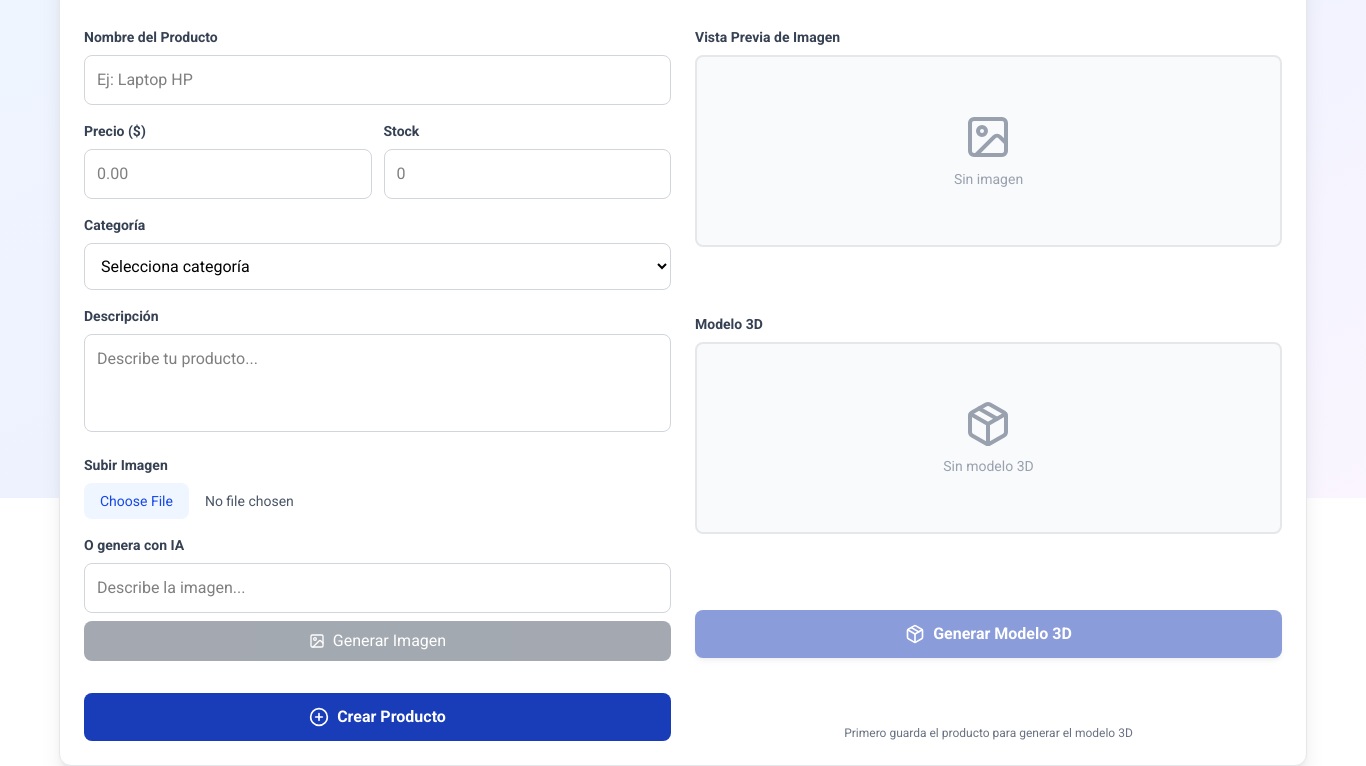
Test case: Crear Producto - Vendedor › Botón Generar Imagen está deshabilitado sin prompt y habilita con texto
This screenshot has width=1366, height=766.
(page scrolled)
Expected: the button "Generar Imagen" is disabled, [84,621,671,661]
# enable by typing prompt
Step 1. Type "un prompt" into the field with placeholder "Describe la imagen..." → (378, 588), box [84,563,671,613]
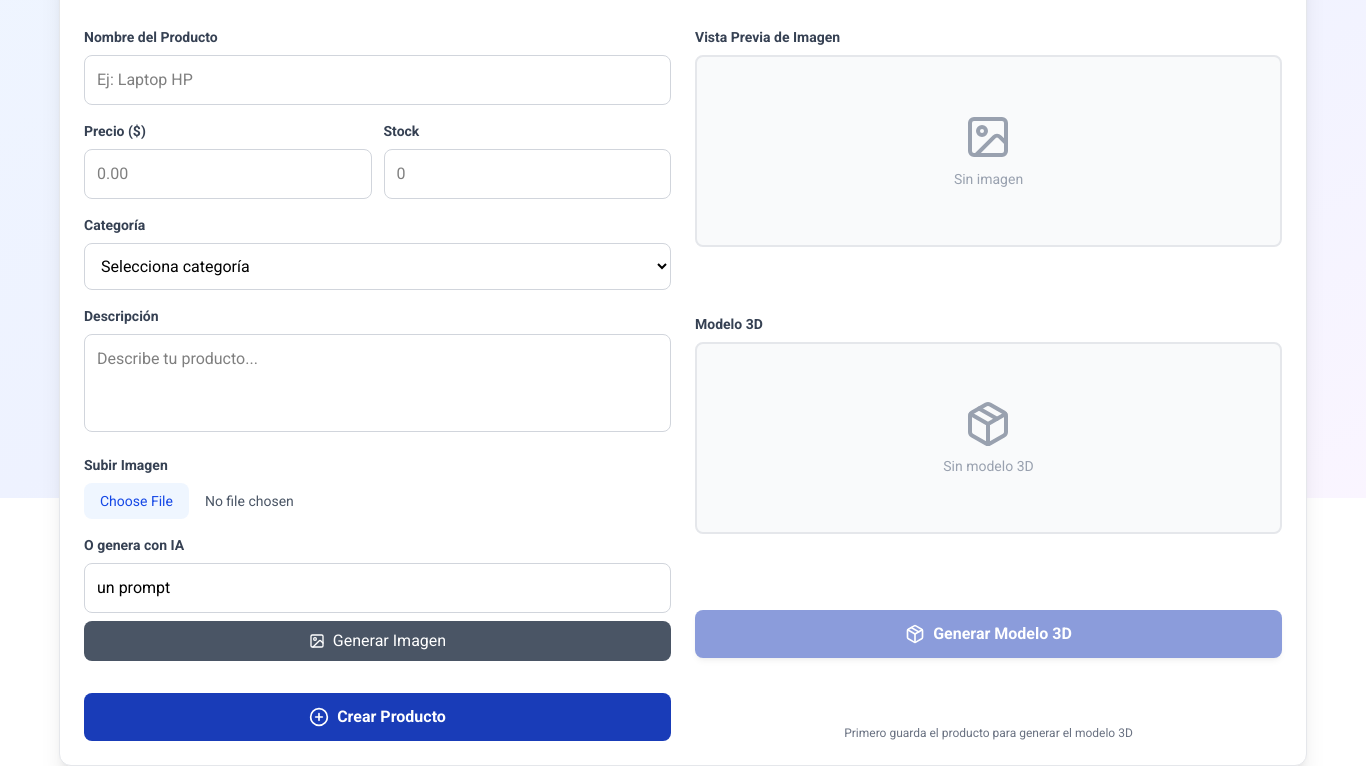
Result: the button "Generar Imagen" is enabled at [84,621,671,661]
